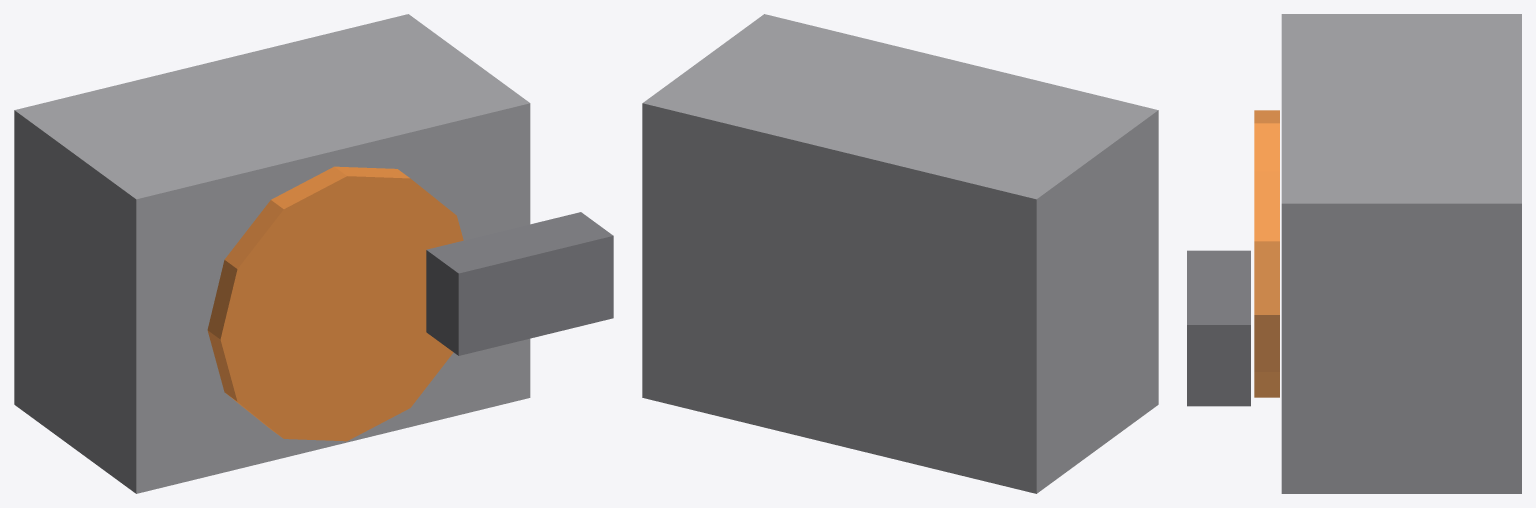
Rendered from blacksmith_forge_station.glb.
3 renders of one model, left to right at view 1: azimuth 30°, elevation 25°; view 2: azimuth 150°, elevation 25°; view 3: azimuth 270°, elevation 25°, orthographic.
Visible parts, largest first — view 1: forge_body, coals, anvil; view 2: forge_body; view 3: forge_body, anvil, coals.
Boxes of the visible parts, x1,y1,x2,y2 form: forge_body: [14, 14, 530, 493]; coals: [207, 166, 463, 441]; anvil: [426, 212, 613, 355]; forge_body: [642, 14, 1158, 493]; forge_body: [1281, 14, 1521, 493]; anvil: [1187, 250, 1250, 406]; coals: [1254, 110, 1279, 397].
Size of the model in its own units: 1.52 by 1 by 1.04.
